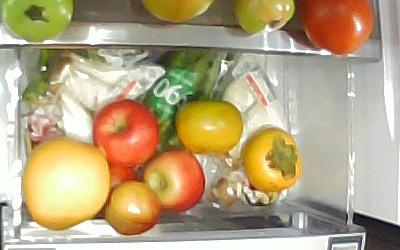apple: (91, 99, 159, 170), (141, 149, 205, 211)
grapefruit: (23, 137, 109, 234)
persimmon: (242, 126, 304, 193), (174, 99, 244, 155)
prune: (104, 181, 162, 235), (108, 165, 139, 197)
